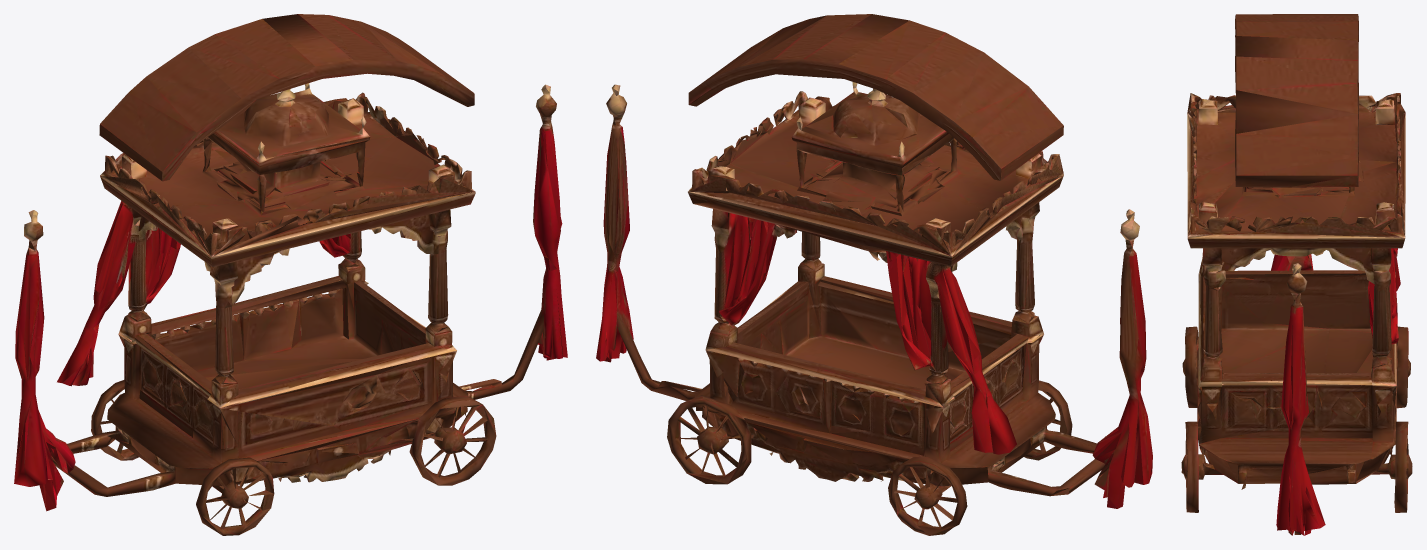
File: palki.glb
The picture shows the model from 3 angles, left to right: view 1: azimuth 30°, elevation 25°; view 2: azimuth 150°, elevation 25°; view 3: azimuth 270°, elevation 25°; orthographic projection. The views are drawn at different scales.
Visible parts, largest first — view 1: palki; view 2: palki; view 3: palki.
Part boxes in pixels (left/top/right/bottom): palki: left=14, top=14, right=567, bottom=535; palki: left=596, top=14, right=1152, bottom=535; palki: left=1181, top=14, right=1412, bottom=535.
Bounding box in the file's own units: 2.4 × 1.79 × 0.898.
1 material, 1 textured.
